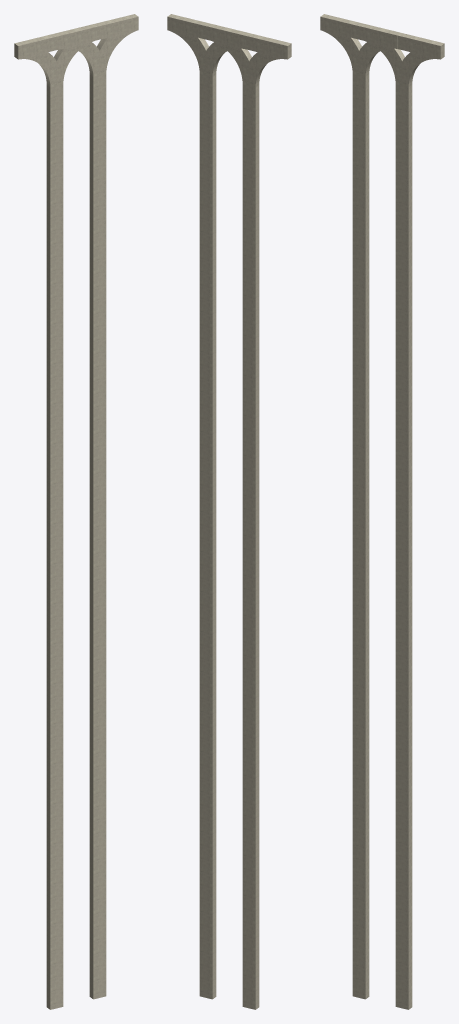
File: BridgePillar4-4L.FBX
The picture shows the model from 3 angles, left to right: view 1: azimuth 30°, elevation 25°; view 2: azimuth 150°, elevation 25°; view 3: azimuth 330°, elevation 25°; orthographic projection.
Visible parts, largest first — view 1: BridgePillar4-4L; view 2: BridgePillar4-4L; view 3: BridgePillar4-4L.
Part boxes in pixels (x1,y1,x2,y2): BridgePillar4-4L: (14, 14, 138, 1009); BridgePillar4-4L: (167, 14, 291, 1009); BridgePillar4-4L: (320, 14, 444, 1009).
Size of the model in its own units: 28 by 216 by 1.5.
